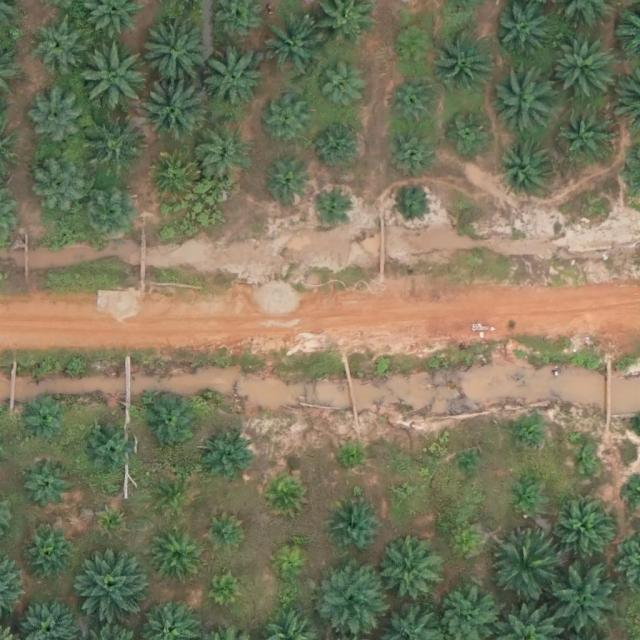Healthy: (546, 566, 617, 637), (77, 549, 148, 620), (140, 75, 211, 146), (135, 15, 206, 86), (489, 529, 560, 599), (315, 563, 385, 634), (78, 42, 148, 113), (202, 49, 265, 112), (82, 114, 145, 177), (382, 543, 444, 606), (550, 38, 612, 101), (494, 70, 557, 132), (259, 19, 321, 82), (437, 29, 499, 92), (556, 499, 618, 561), (494, 4, 549, 60), (328, 499, 383, 554), (144, 394, 199, 449), (81, 422, 136, 477), (23, 526, 78, 581), (389, 76, 444, 131), (383, 127, 438, 182), (145, 151, 200, 206), (34, 159, 89, 214), (28, 92, 83, 147), (150, 529, 204, 584), (561, 111, 615, 166), (500, 142, 554, 197), (198, 130, 252, 185), (83, 188, 137, 243), (28, 16, 82, 71)
Small: (316, 65, 363, 113), (317, 120, 364, 168), (204, 437, 251, 484), (22, 463, 69, 510), (446, 109, 493, 156), (266, 100, 313, 147), (265, 162, 312, 209), (391, 25, 438, 72), (23, 398, 63, 438), (394, 185, 433, 225), (310, 188, 350, 227), (570, 446, 601, 477), (513, 418, 544, 449), (510, 482, 541, 513), (455, 455, 479, 479), (339, 445, 362, 469), (449, 530, 472, 553), (395, 485, 410, 501)
Yellow: (267, 474, 306, 514), (156, 478, 195, 517), (273, 549, 304, 581), (212, 576, 243, 607), (209, 518, 240, 549), (99, 509, 122, 532)
